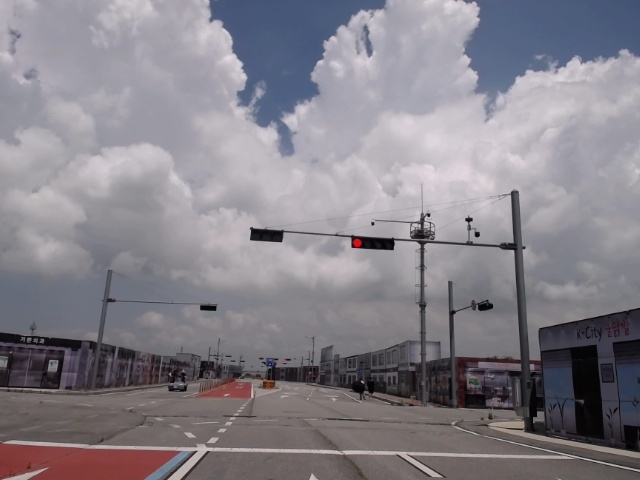red_4: (351, 236, 394, 250)
